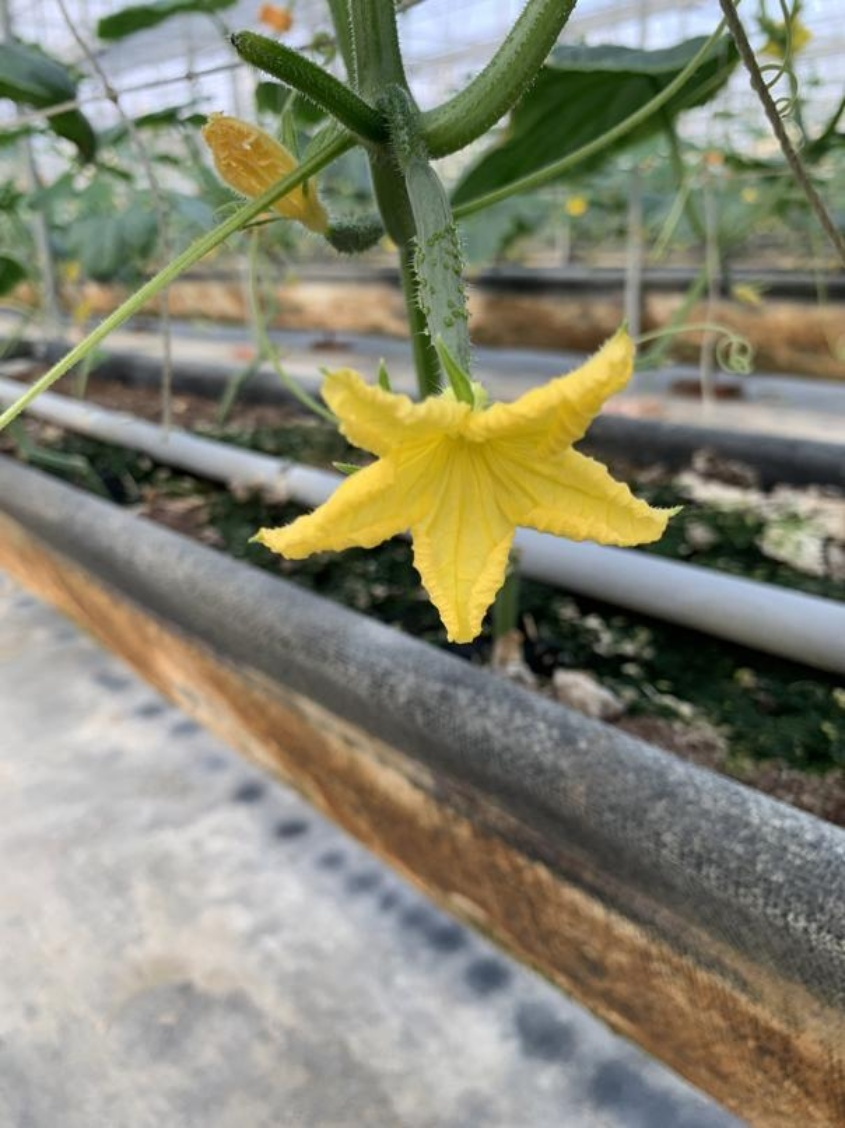flowering: (239, 128, 688, 660)
